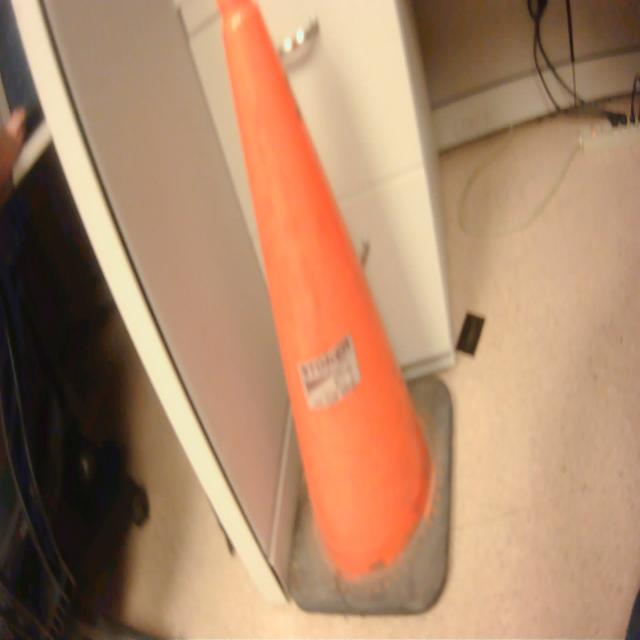traffic cone: (210, 1, 462, 621)
